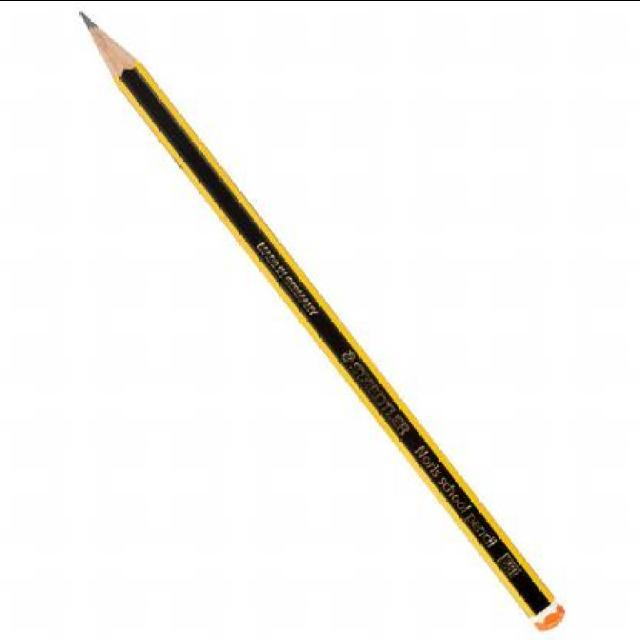pencil: (74, 3, 158, 128)
